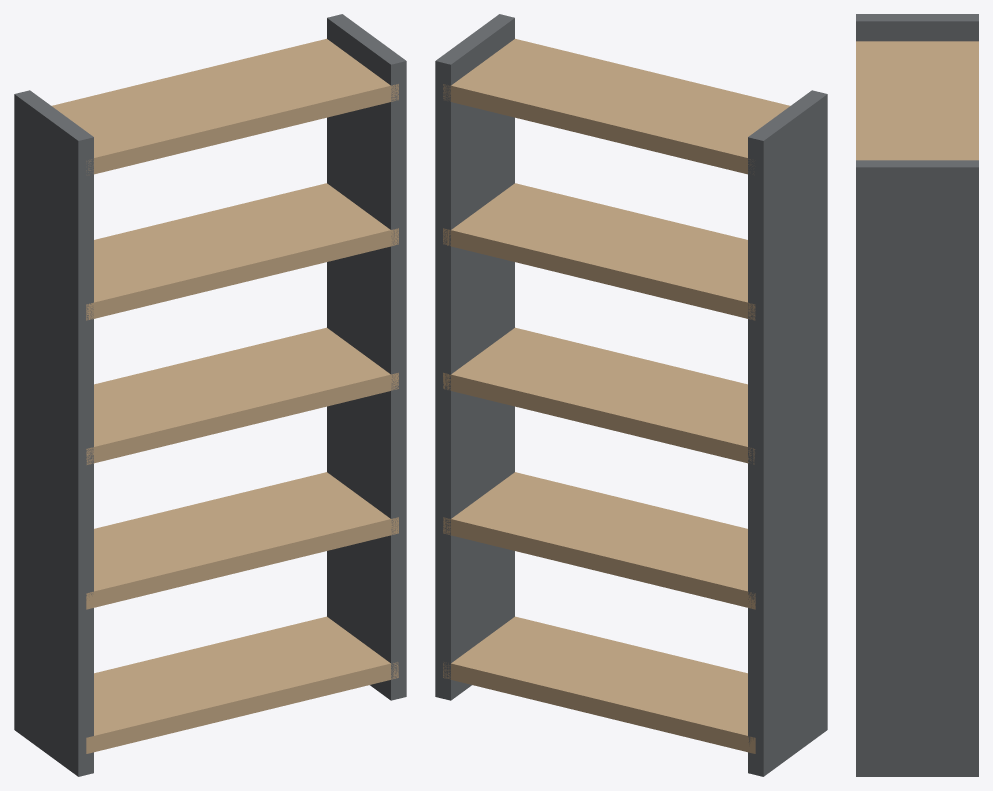
Rendered from shelf_04.glb.
The picture shows the model from 3 angles, left to right: view 1: azimuth 30°, elevation 25°; view 2: azimuth 150°, elevation 25°; view 3: azimuth 270°, elevation 25°; orthographic projection. The views are drawn at different scales.
Visible parts, largest first — view 1: side-0.45, side0.45, shelf4, shelf1, shelf3, shelf2, shelf0; view 2: side-0.45, side0.45, shelf4, shelf1, shelf3, shelf0, shelf2; view 3: side0.45, shelf4, side-0.45.
Part boxes in pixels (x1,y1,x2,y2): side-0.45: (14, 90, 93, 776); side0.45: (327, 14, 406, 700); shelf4: (52, 38, 398, 174); shelf1: (86, 472, 398, 609); shelf3: (86, 183, 398, 320); shelf2: (86, 327, 398, 464); shelf0: (86, 616, 398, 753); side-0.45: (748, 90, 827, 776); side0.45: (435, 14, 514, 700); shelf4: (443, 38, 789, 174); shelf1: (443, 472, 755, 609); shelf3: (443, 183, 755, 320); shelf0: (443, 616, 755, 753); shelf2: (443, 327, 755, 464); side0.45: (856, 160, 978, 776); shelf4: (856, 41, 978, 160); side-0.45: (856, 14, 978, 41).
Size of the model in its own units: 0.945 by 1.75 by 0.32.
